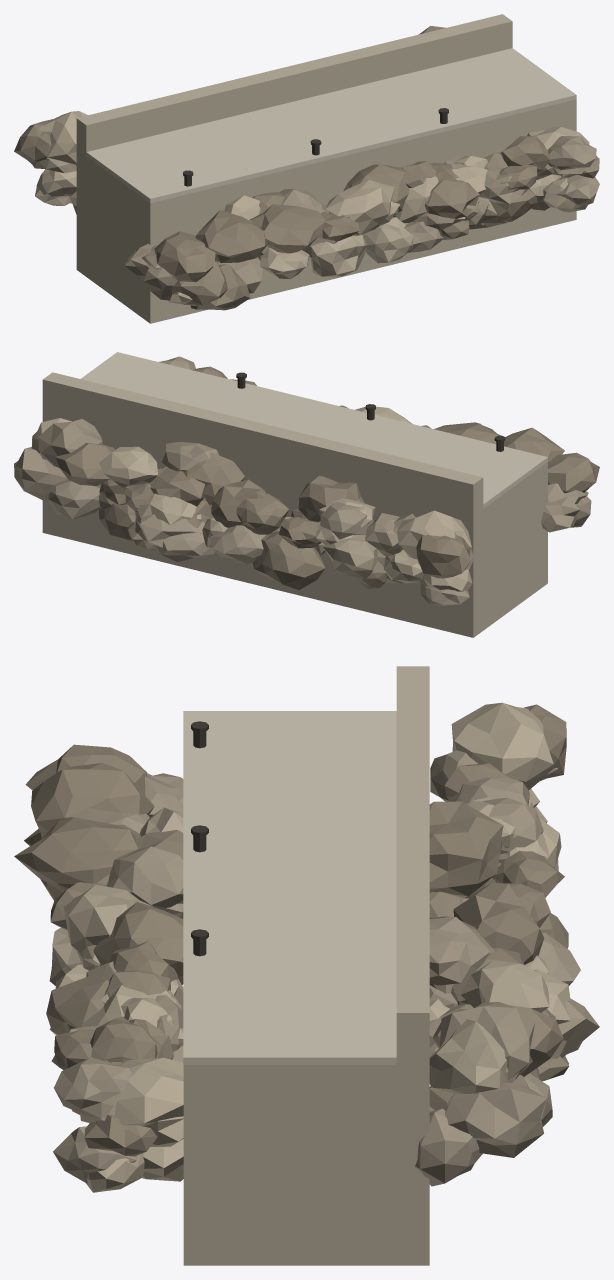
The model's file is mendirek-duz.glb.
The picture shows the model from 3 angles, top to bottom: view 1: azimuth 30°, elevation 25°; view 2: azimuth 150°, elevation 25°; view 3: azimuth 270°, elevation 25°; orthographic projection. The views are drawn at different scales.
Visible parts, largest first — view 1: beton2, beton, kaya3, kaya2, kaya, demir; view 2: beton2, kaya3, beton, kaya, kaya2, demir; view 3: beton, beton2, kaya3, kaya, kaya2, demir.
Boxes of the visible parts, box(x1,y1,x2,y2) form: beton2: box(76, 14, 576, 323); beton: box(86, 48, 576, 203); kaya3: box(14, 119, 599, 310); kaya2: box(36, 111, 589, 305); kaya: box(31, 26, 599, 300); demir: box(183, 108, 448, 186); beton2: box(42, 372, 547, 637); kaya3: box(55, 366, 599, 589); beton: box(81, 352, 547, 508); kaya: box(14, 356, 591, 606); kaya2: box(31, 406, 472, 591); demir: box(236, 372, 505, 451); beton: box(183, 711, 396, 1064); beton2: box(183, 666, 429, 1265); kaya3: box(14, 704, 568, 1156); kaya: box(51, 750, 599, 1186); kaya2: box(49, 702, 570, 1192); demir: box(191, 721, 208, 956).
Size of the model in its own units: 21.76 by 6.8 by 14.29.
